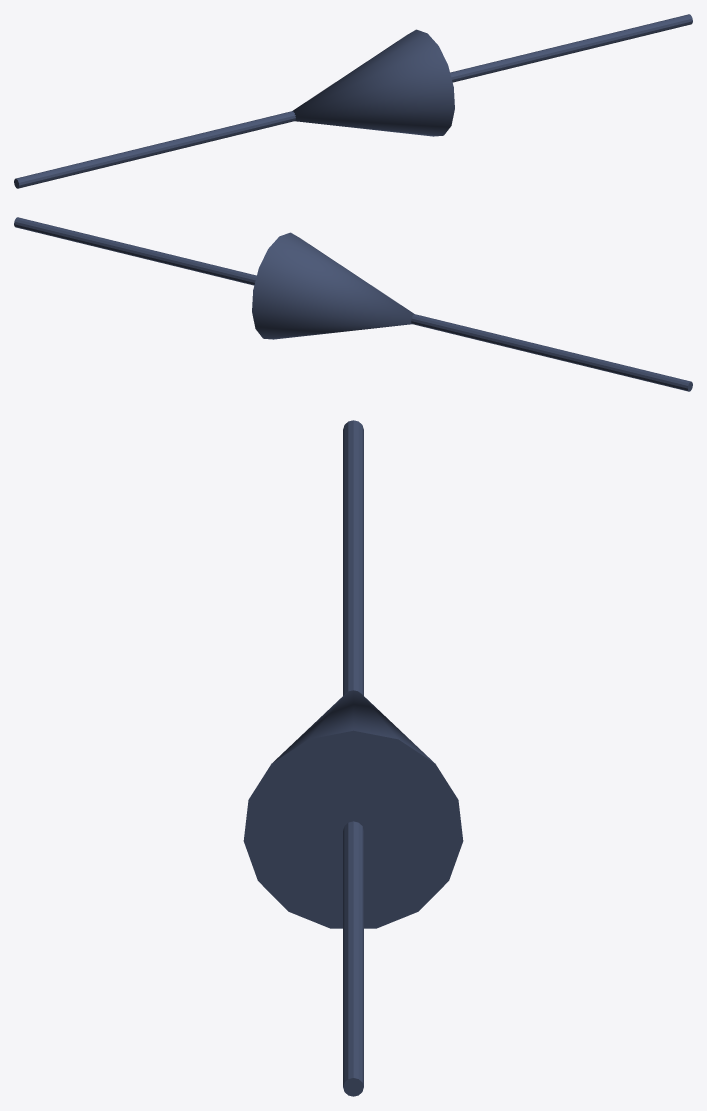
Rendered from Directions.fbx.
The picture shows the model from 3 angles, top to bottom: view 1: azimuth 30°, elevation 25°; view 2: azimuth 150°, elevation 25°; view 3: azimuth 270°, elevation 25°; orthographic projection. The views are drawn at different scales.
Parts seen in each view (by area): view 1: pCone2; view 2: pCone2; view 3: pCone2.
Part boxes in pixels (x1,y1,x2,y2): pCone2: [14, 14, 692, 188]; pCone2: [14, 217, 692, 391]; pCone2: [243, 420, 463, 1096].
Bounding box in the file's own units: 50.91 × 7.15 × 7.19.
